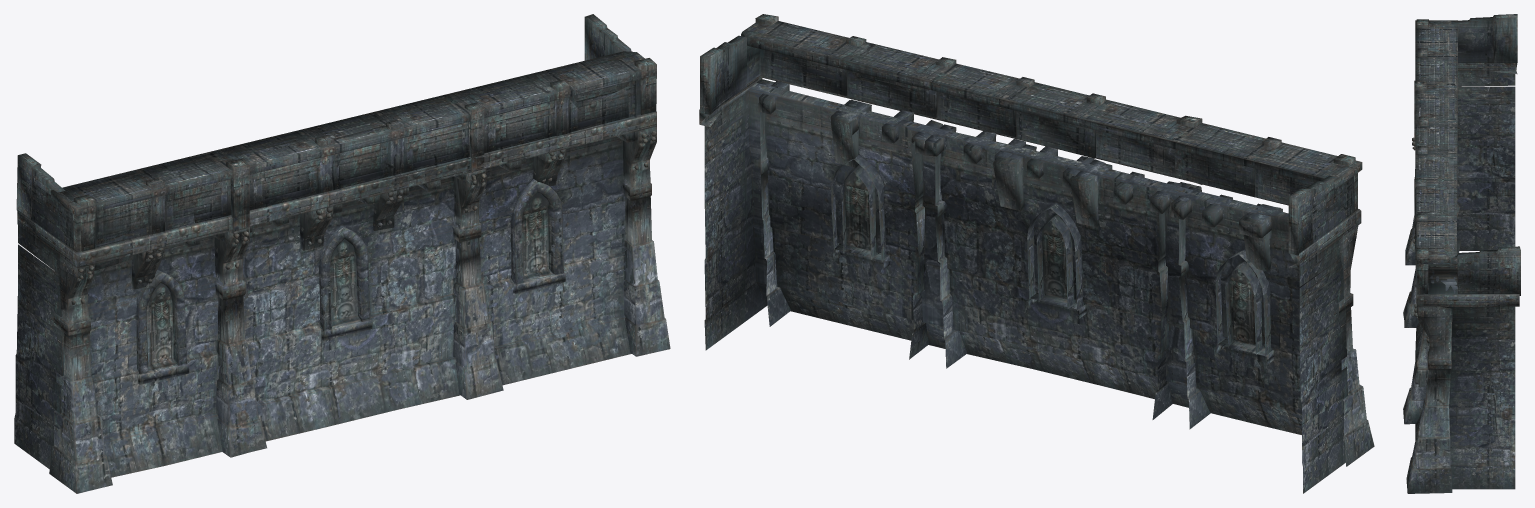
The model's file is wall.glb.
3 views of the same model, side by side, from view 1: azimuth 30°, elevation 25°; view 2: azimuth 150°, elevation 25°; view 3: azimuth 270°, elevation 25° (orthographic). The views are drawn at different scales.
Visible parts, largest first — view 1: tripo_node_f0b5fd25-6b2f-4dca-83db-b1ed630d56d4; view 2: tripo_node_f0b5fd25-6b2f-4dca-83db-b1ed630d56d4; view 3: tripo_node_f0b5fd25-6b2f-4dca-83db-b1ed630d56d4.
Part boxes in pixels (x1,y1,x2,y2): tripo_node_f0b5fd25-6b2f-4dca-83db-b1ed630d56d4: [14, 14, 670, 493]; tripo_node_f0b5fd25-6b2f-4dca-83db-b1ed630d56d4: [699, 14, 1374, 493]; tripo_node_f0b5fd25-6b2f-4dca-83db-b1ed630d56d4: [1403, 14, 1520, 493].
Bounding box in the file's own units: 6 × 2.78 × 1.23.
1 material, 1 textured.
